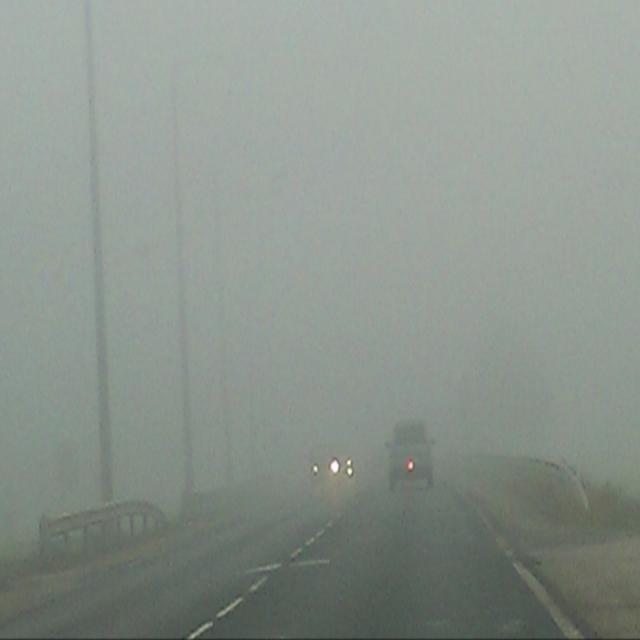car: (384, 421, 438, 494), (308, 446, 338, 484), (334, 440, 358, 486)
